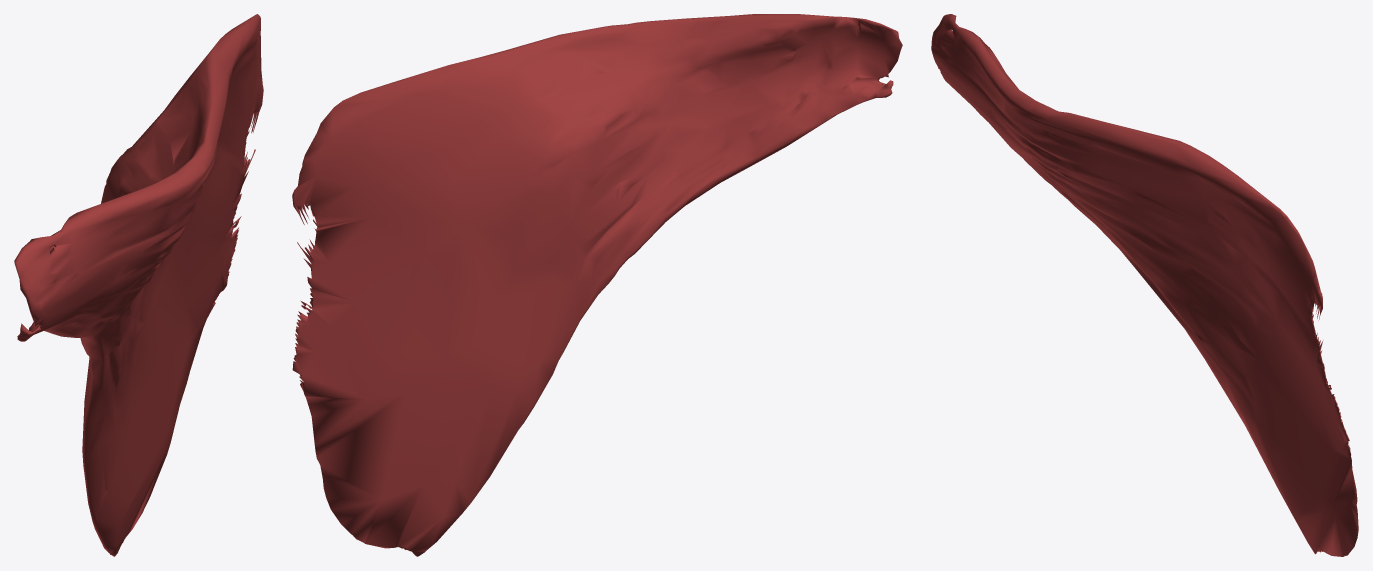
The model's file is subscapularis-muscle-r.glb.
3 renders of one model, left to right at view 1: azimuth 30°, elevation 25°; view 2: azimuth 150°, elevation 25°; view 3: azimuth 270°, elevation 25°, orthographic. The views are drawn at different scales.
Visible parts, largest first — view 1: Subscapularis muscle.r; view 2: Subscapularis muscle.r; view 3: Subscapularis muscle.r.
Part boxes in pixels (x1,y1,x2,y2): Subscapularis muscle.r: (14, 14, 263, 556); Subscapularis muscle.r: (292, 14, 902, 556); Subscapularis muscle.r: (931, 14, 1358, 556).
Size of the model in its own units: 0.105 by 0.1146 by 0.105.
